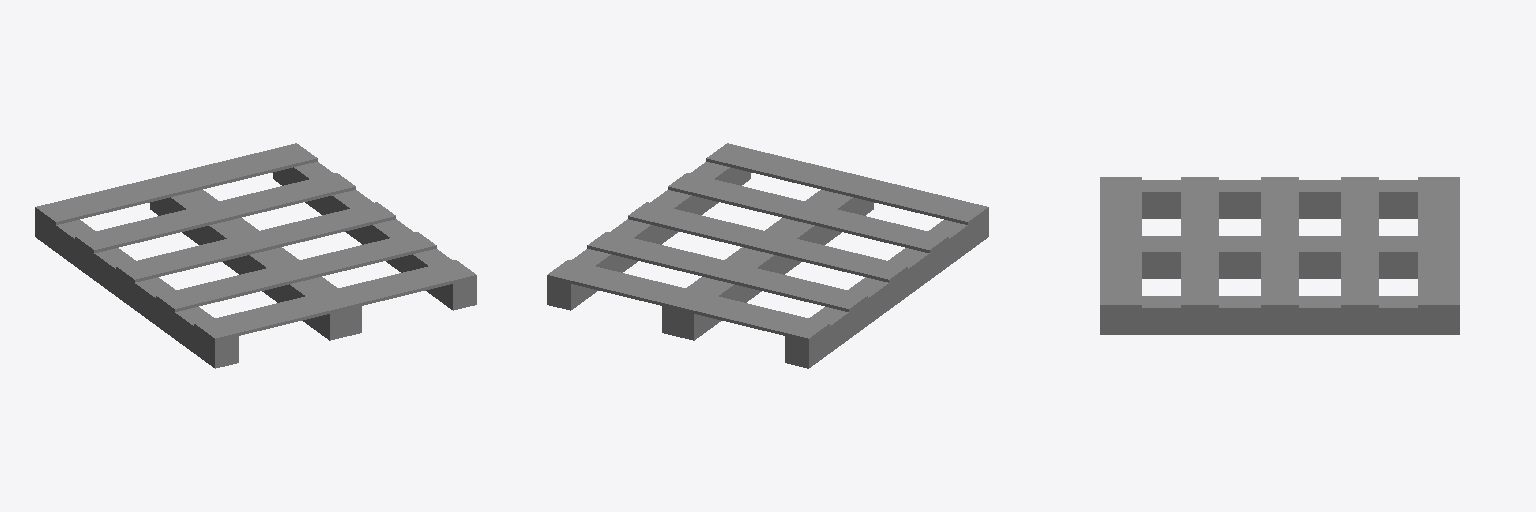
File: stand.obj
3 views of the same model, side by side, from view 1: azimuth 30°, elevation 25°; view 2: azimuth 150°, elevation 25°; view 3: azimuth 270°, elevation 25° (orthographic).
Parts seen in each view (by area): view 1: planks, stand; view 2: planks, stand; view 3: planks, stand.
Boxes of the visible parts, <box> form: planks: <box>35,143,476,341</box>; stand: <box>35,162,476,368</box>; planks: <box>547,143,988,341</box>; stand: <box>547,162,988,368</box>; planks: <box>1100,177,1459,307</box>; stand: <box>1100,180,1459,334</box>.
Bounding box in the file's own units: 70.35 × 7.75 × 83.75.